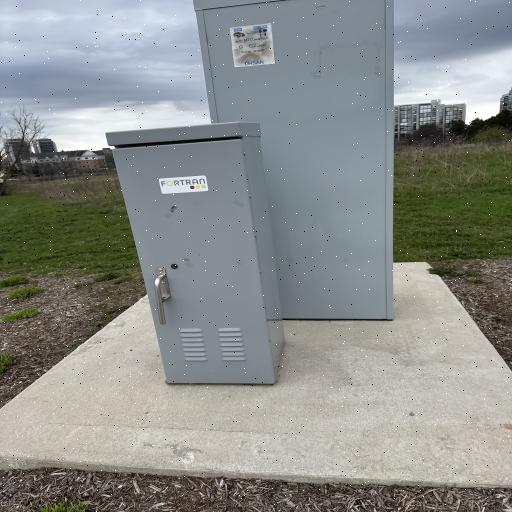Electrical Box: (188, 1, 394, 322), (104, 122, 290, 385)
